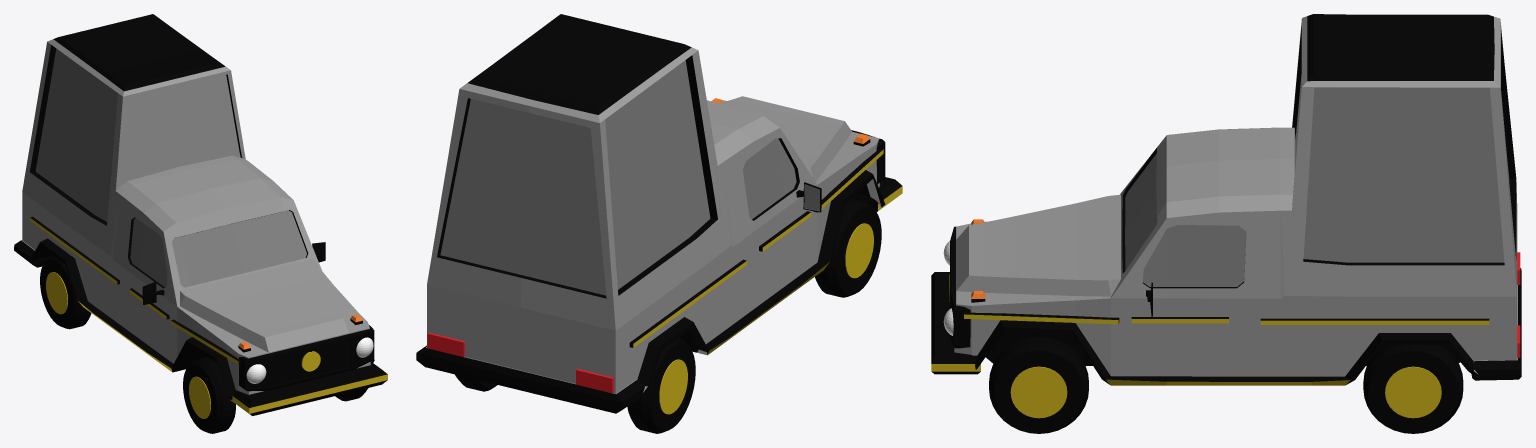
Rendered from Авто 10.fbx.
The picture shows the model from 3 angles, left to right: view 1: azimuth 30°, elevation 25°; view 2: azimuth 150°, elevation 25°; view 3: azimuth 270°, elevation 25°; orthographic projection. The views are drawn at different scales.
Visible parts, largest first — view 1: Cube, Cylinder.002, Cylinder.003; view 2: Cube, Cylinder.002, Cylinder.003; view 3: Cube, Cylinder, Cylinder.001.
Boxes of the visible parts, bbox=[...] form: Cube: bbox=[14, 14, 387, 415]; Cylinder.002: bbox=[183, 357, 235, 433]; Cylinder.003: bbox=[40, 255, 91, 329]; Cube: bbox=[416, 14, 902, 413]; Cylinder.002: bbox=[815, 198, 881, 297]; Cylinder.003: bbox=[627, 337, 695, 433]; Cube: bbox=[931, 14, 1521, 385]; Cylinder: bbox=[989, 337, 1088, 433]; Cylinder.001: bbox=[1363, 344, 1463, 433].
Bounding box in the file's own units: 117 × 162 × 251.
